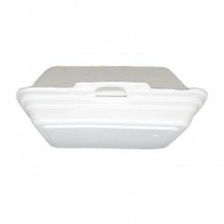foam_box: (7, 59, 215, 156)
